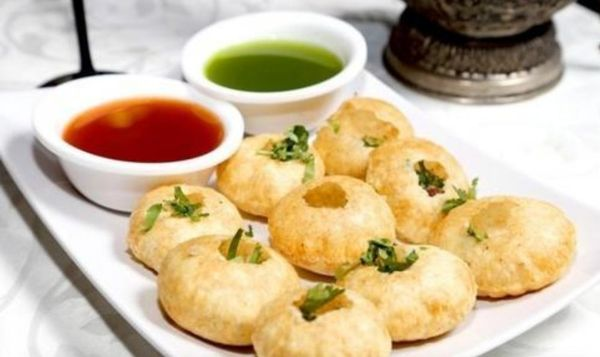sushi: (30, 74, 245, 213), (180, 10, 369, 136)
